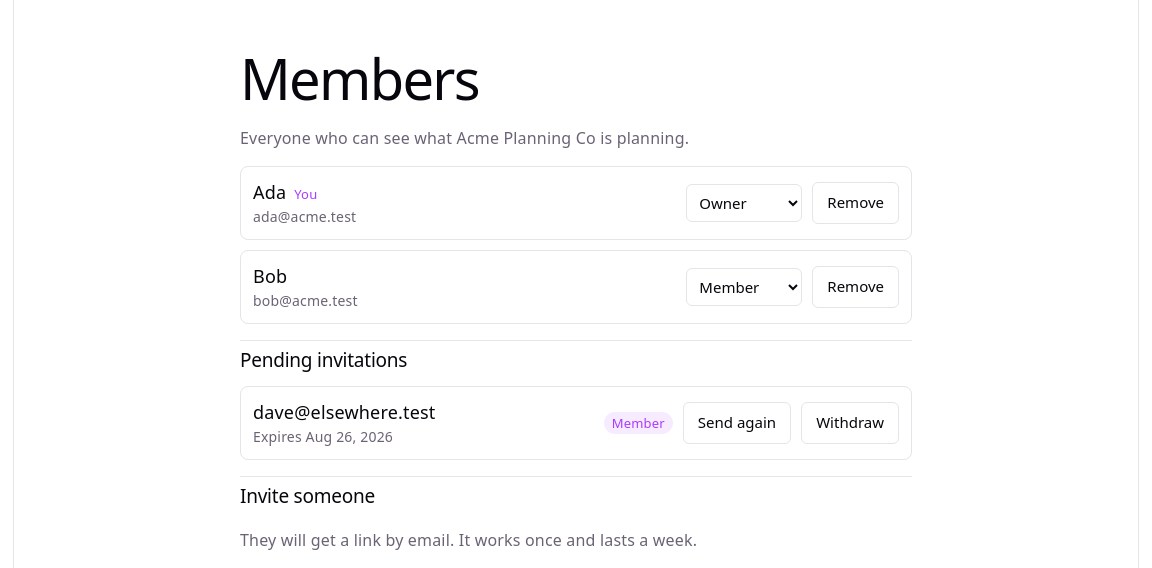
Scenario: MembersPage › removes somebody once the question is answered yes
Expected: the text "Ada" is shown, [253,180,286,204]
Click the button with aria-label "Remove Bob": (856, 287) [812,266,899,308]
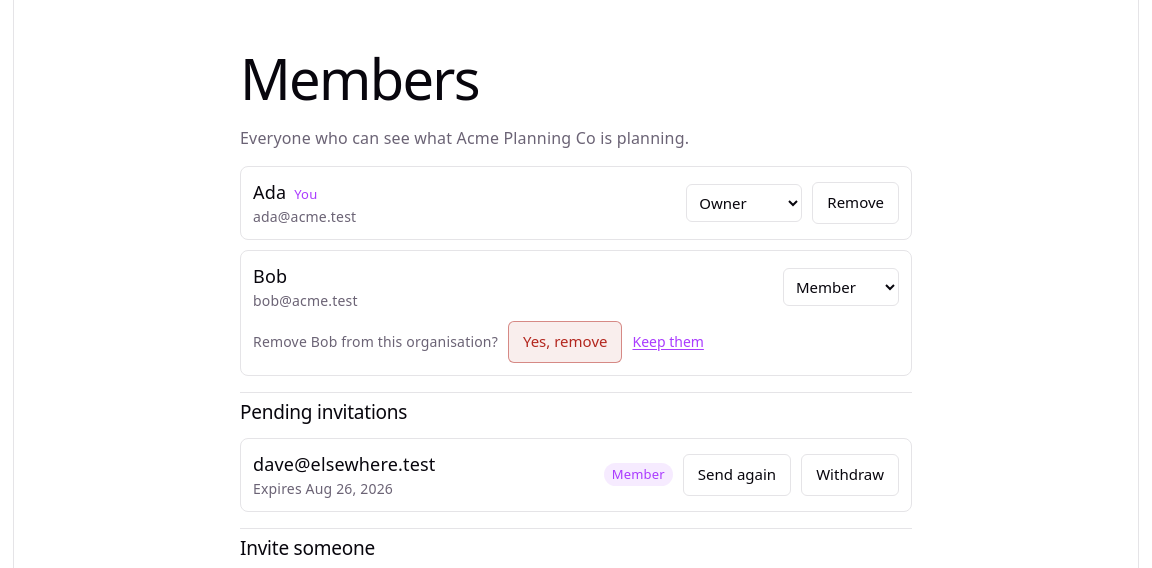
Click the button "Yes, remove": (565, 342) [508,321,622,363]
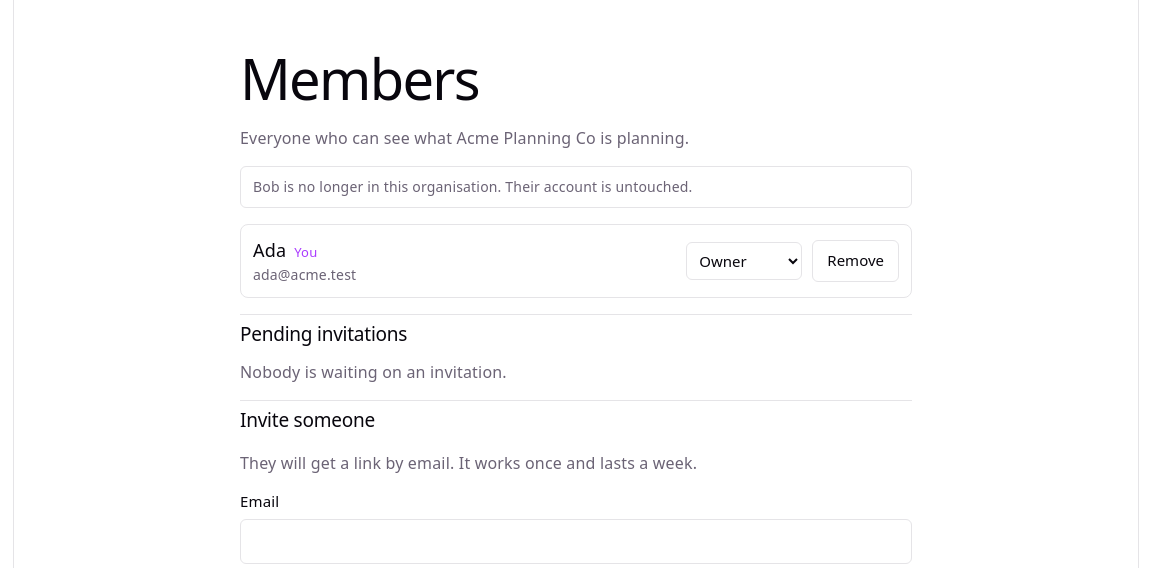
Now the message shows "account is untouched", box [253,177,692,196]
